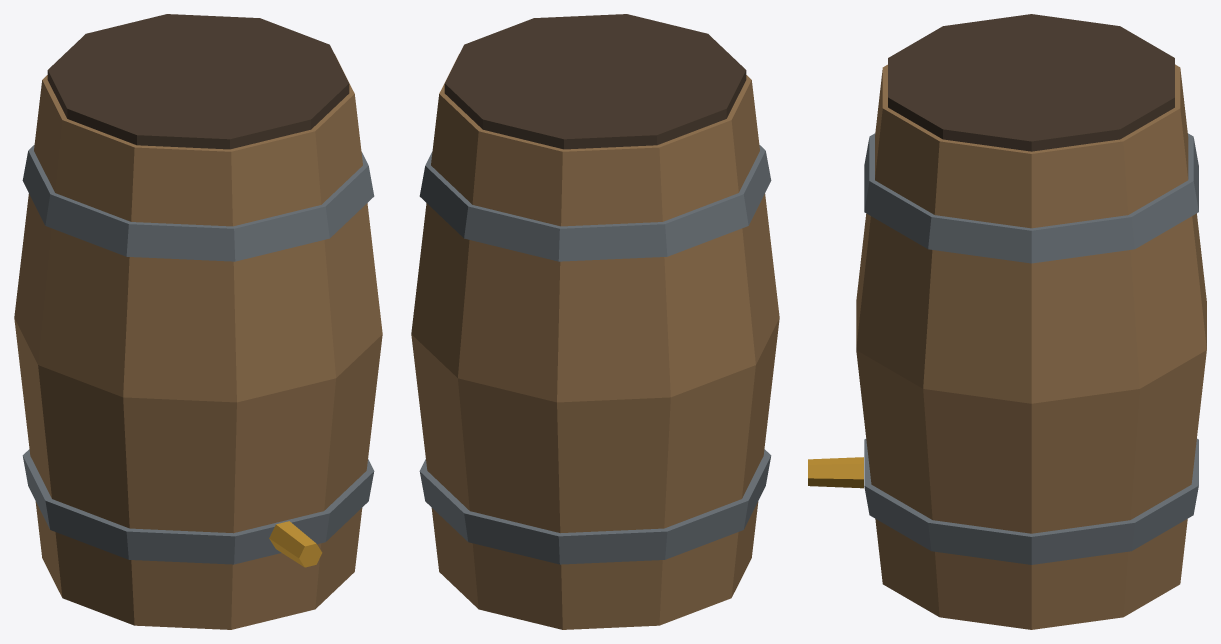
Rendered from water_barrel.glb.
The picture shows the model from 3 angles, left to right: view 1: azimuth 30°, elevation 25°; view 2: azimuth 150°, elevation 25°; view 3: azimuth 270°, elevation 25°; orthographic projection.
Visible parts, largest first — view 1: water_barrel; view 2: water_barrel; view 3: water_barrel.
Boxes of the visible parts, <box> form: water_barrel: <box>14,14,382,629</box>; water_barrel: <box>411,14,779,629</box>; water_barrel: <box>808,14,1206,629</box>.
Size of what is drawn, in the model's own units: 0.66 by 0.96 by 0.7138.
Materials: 1 (1 with a texture image).
